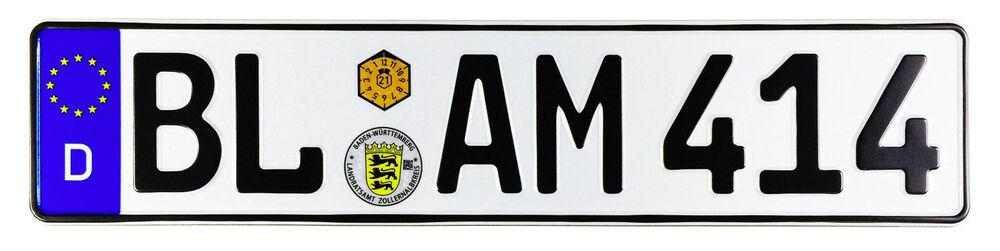1: (755, 48, 846, 198)
4: (653, 44, 749, 198), (856, 48, 944, 198)
A: (434, 46, 525, 198)
B: (127, 46, 225, 198)
L: (232, 45, 326, 198)
M: (529, 46, 631, 202)
